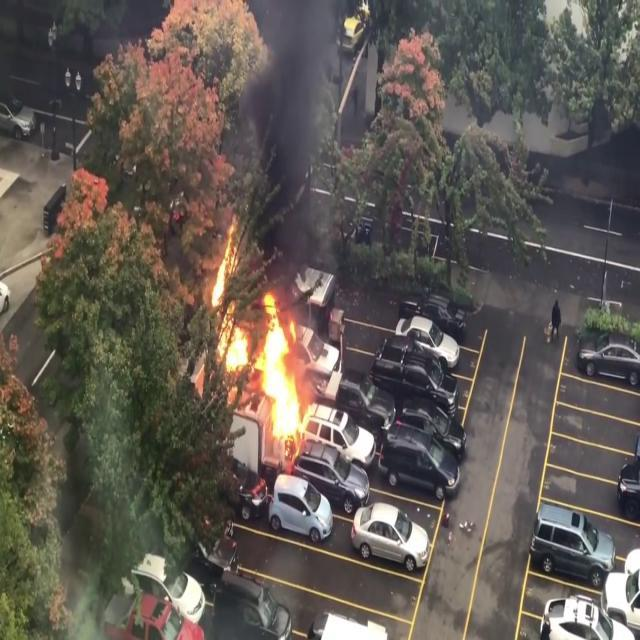Fire: (226, 274, 336, 454), (203, 218, 251, 382)
Smoke: (240, 0, 350, 207)
